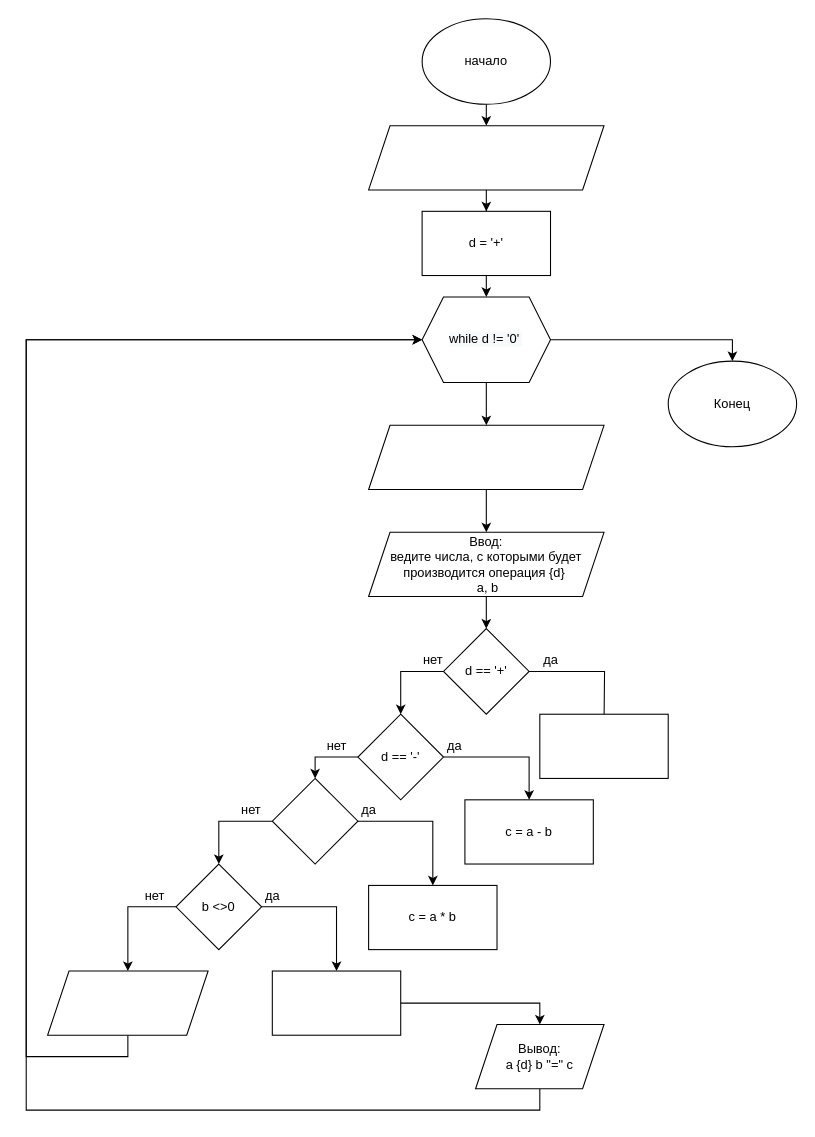
Some shapes in this 815 by 1137 pixel diagram are drawn without their labels. The shapes that lost their labels are listed below. From the top down, each one's centre as x and y in pixels, then its label:
the point at 486,157: Вывод: Программа складывает, вычитает, умножает и делит два числа
the point at 486,457: Ввод: введите символ действия: ( '0', '+', '-', '*', '/'), d
the point at 603,745: с = a + b
the point at 314,820: d == '*'
the point at 127,1002: Вывод: на '0' делить нельзя
the point at 336,1002: с = a / b
